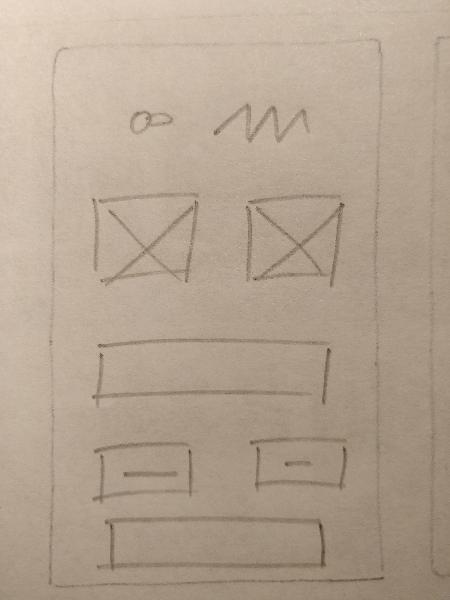button: (241, 426, 353, 499), (87, 435, 202, 503)
image: (80, 187, 213, 288), (238, 187, 349, 295)
switch: (114, 96, 192, 145)
text: (208, 96, 322, 153)
text_input: (82, 332, 341, 410), (93, 510, 336, 575)
